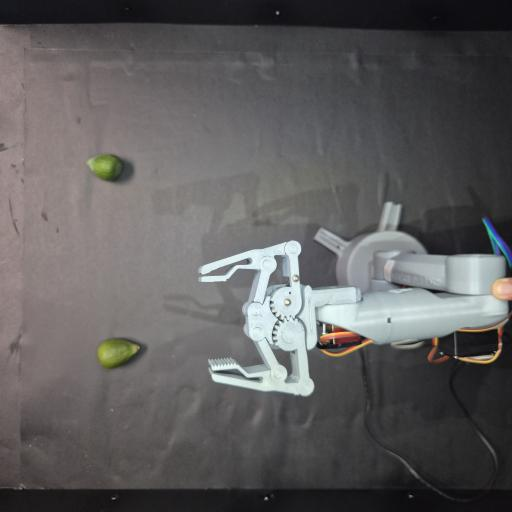higo: (97, 338, 140, 368), (87, 155, 123, 181)
